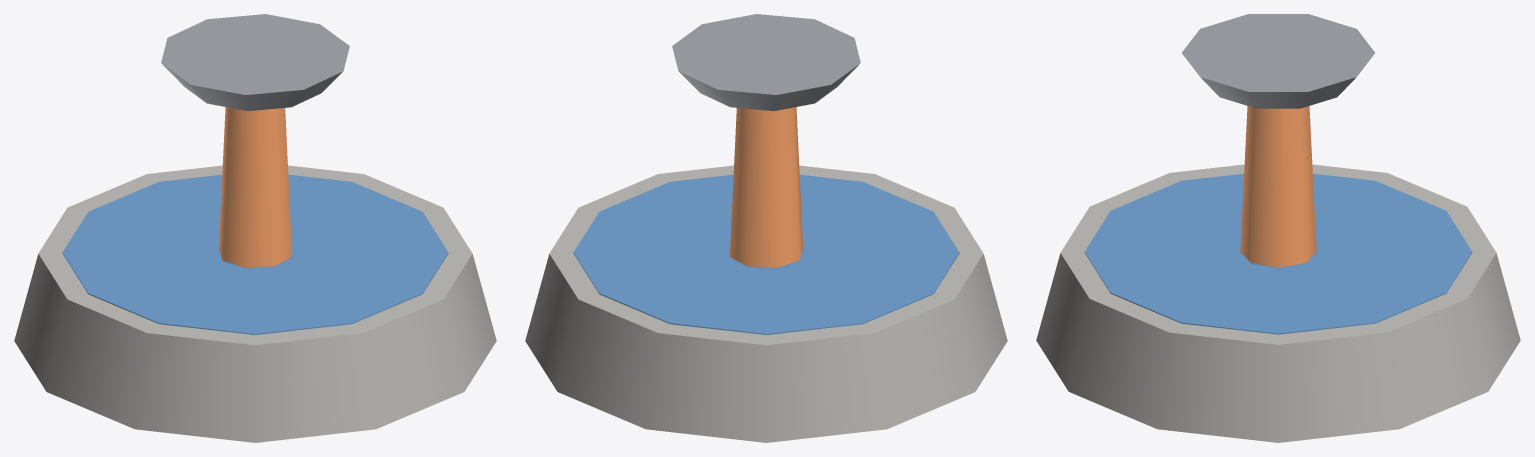
File: build_fountain.glb
The picture shows the model from 3 angles, left to right: view 1: azimuth 30°, elevation 25°; view 2: azimuth 150°, elevation 25°; view 3: azimuth 270°, elevation 25°; orthographic projection.
Parts seen in each view (by area): view 1: Baked; view 2: Baked; view 3: Baked.
Part boxes in pixels (bbox=[...]): Baked: bbox=[14, 14, 496, 442]; Baked: bbox=[525, 14, 1007, 442]; Baked: bbox=[1036, 14, 1520, 442].
Size of the model in its own units: 2 by 1.31 by 2.
